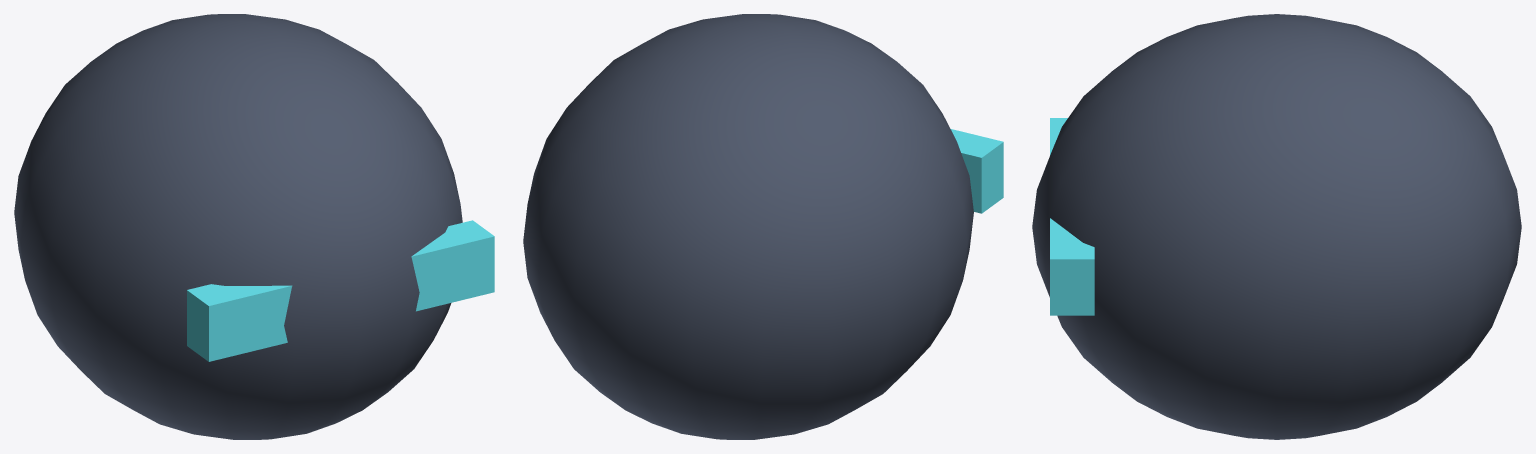
Rendered from cyber_helmet.glb.
The picture shows the model from 3 angles, left to right: view 1: azimuth 30°, elevation 25°; view 2: azimuth 150°, elevation 25°; view 3: azimuth 270°, elevation 25°; orthographic projection.
Size of the model in its own units: 2 by 1.9 by 2.2.
